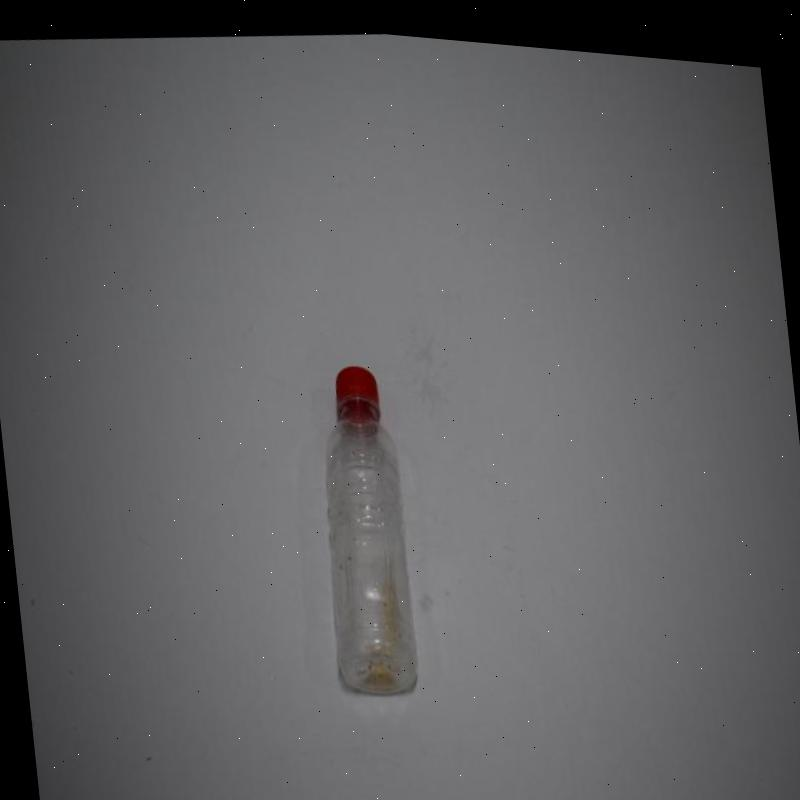botella: (306, 353, 420, 692)
